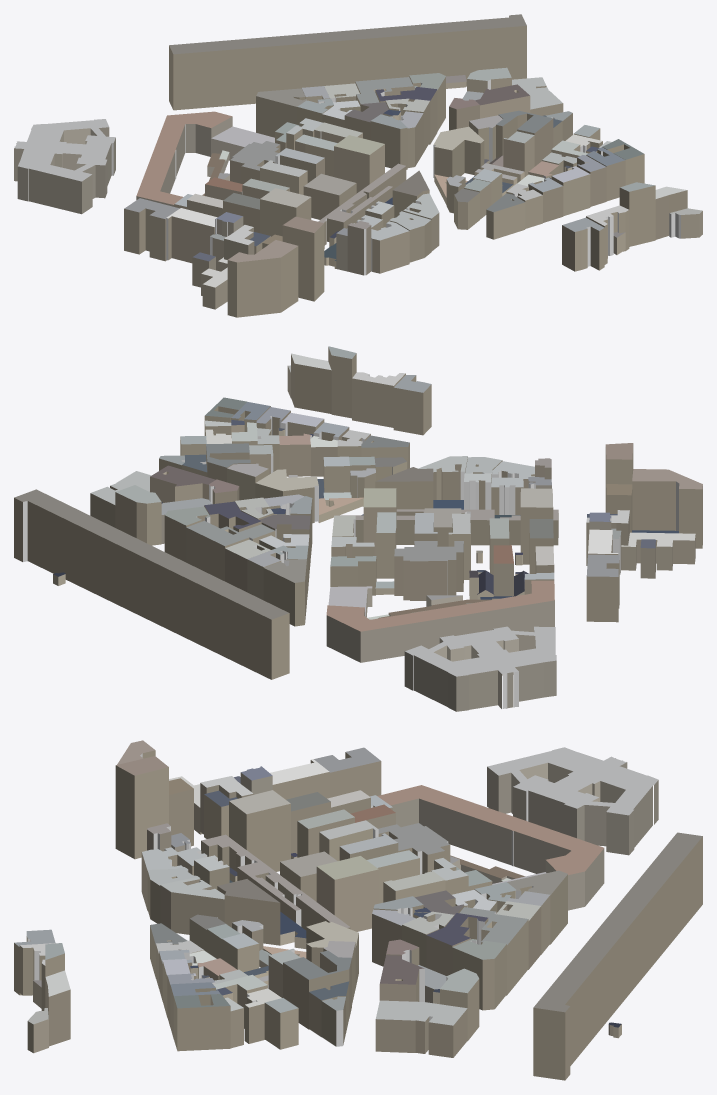
The picture shows the model from 3 angles, top to bottom: view 1: azimuth 30°, elevation 25°; view 2: azimuth 150°, elevation 25°; view 3: azimuth 270°, elevation 25°; orthographic projection. The views are drawn at different scales.
Parts seen in each view (by area): view 1: tuile; view 2: tuile; view 3: tuile.
Part boxes in pixels (x1,y1,x2,y2): tuile: (14,14,702,317); tuile: (14,346,702,711); tuile: (14,740,702,1080).
Bounding box in the file's own units: 293 × 40.57 × 285.
